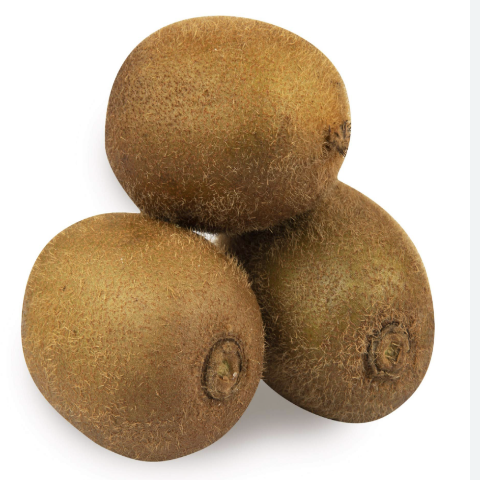kiwi: (7, 194, 289, 470), (80, 3, 355, 240), (206, 181, 425, 451)
